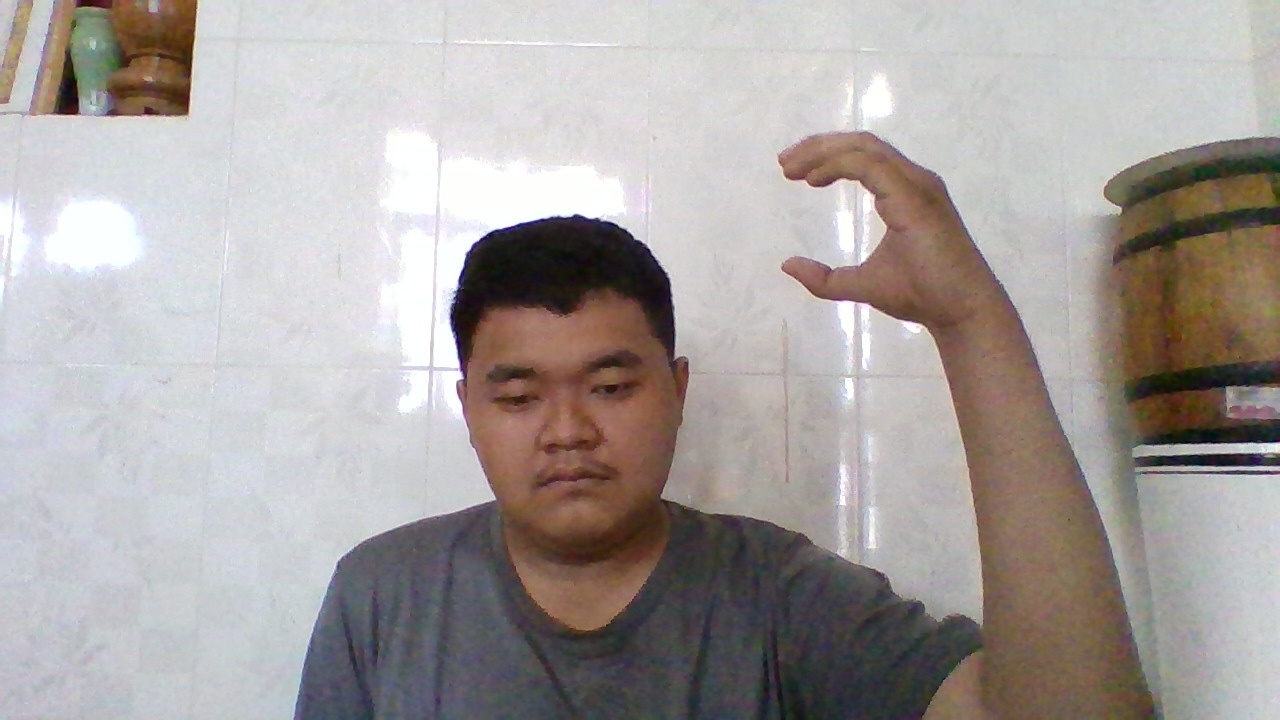C: (774, 124, 983, 331)
